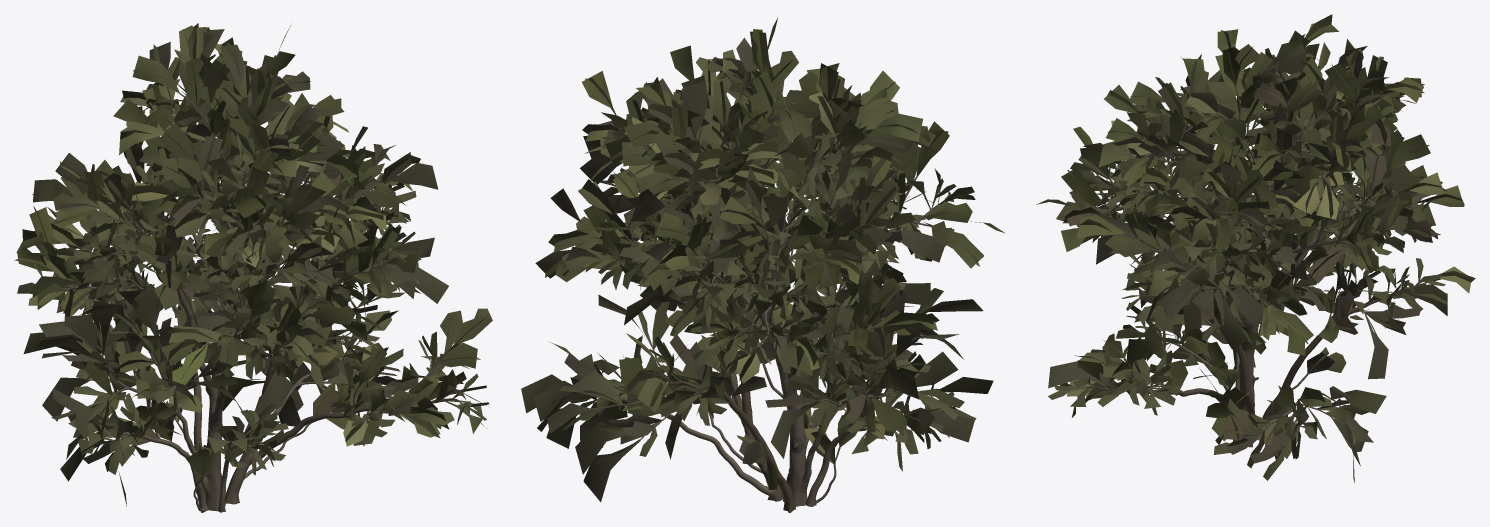
File: SM_BlackAlder_Field_05_PP_LOD1.gltf
3 renders of one model, left to right at view 1: azimuth 30°, elevation 25°; view 2: azimuth 150°, elevation 25°; view 3: azimuth 270°, elevation 25°, orthographic. The views are drawn at different scales.
Visible parts, largest first — view 1: SM_BlackAlder_Field_05_PP; view 2: SM_BlackAlder_Field_05_PP; view 3: SM_BlackAlder_Field_05_PP.
Part boxes in pixels (x1=…): SM_BlackAlder_Field_05_PP: x1=14, y1=23, x2=492, y2=512; SM_BlackAlder_Field_05_PP: x1=521, y1=18, x2=1005, y2=512; SM_BlackAlder_Field_05_PP: x1=1037, y1=14, x2=1475, y2=483.
Bounding box in the file's own units: 6.74 × 7.44 × 7.01.
3 materials, 3 textured.
